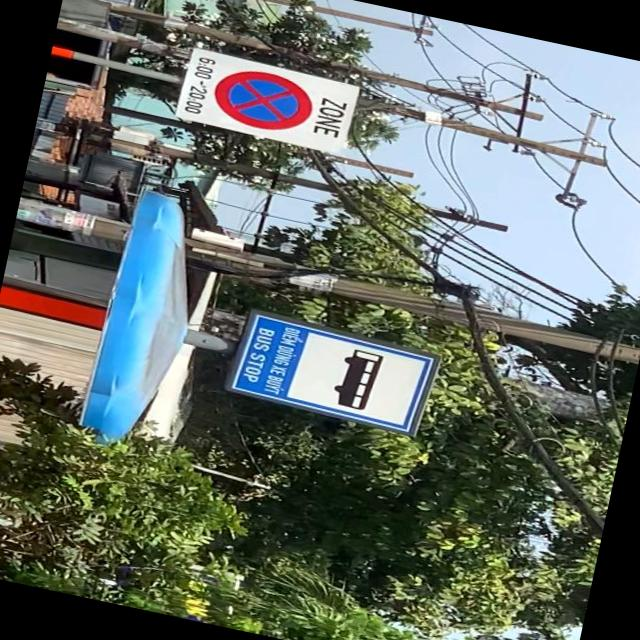P-130: (210, 62, 318, 136)
